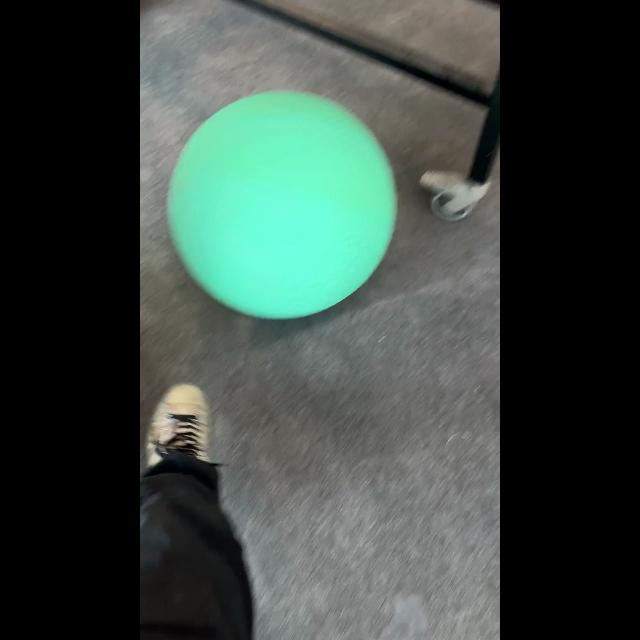ALGAE: (166, 88, 398, 320)
